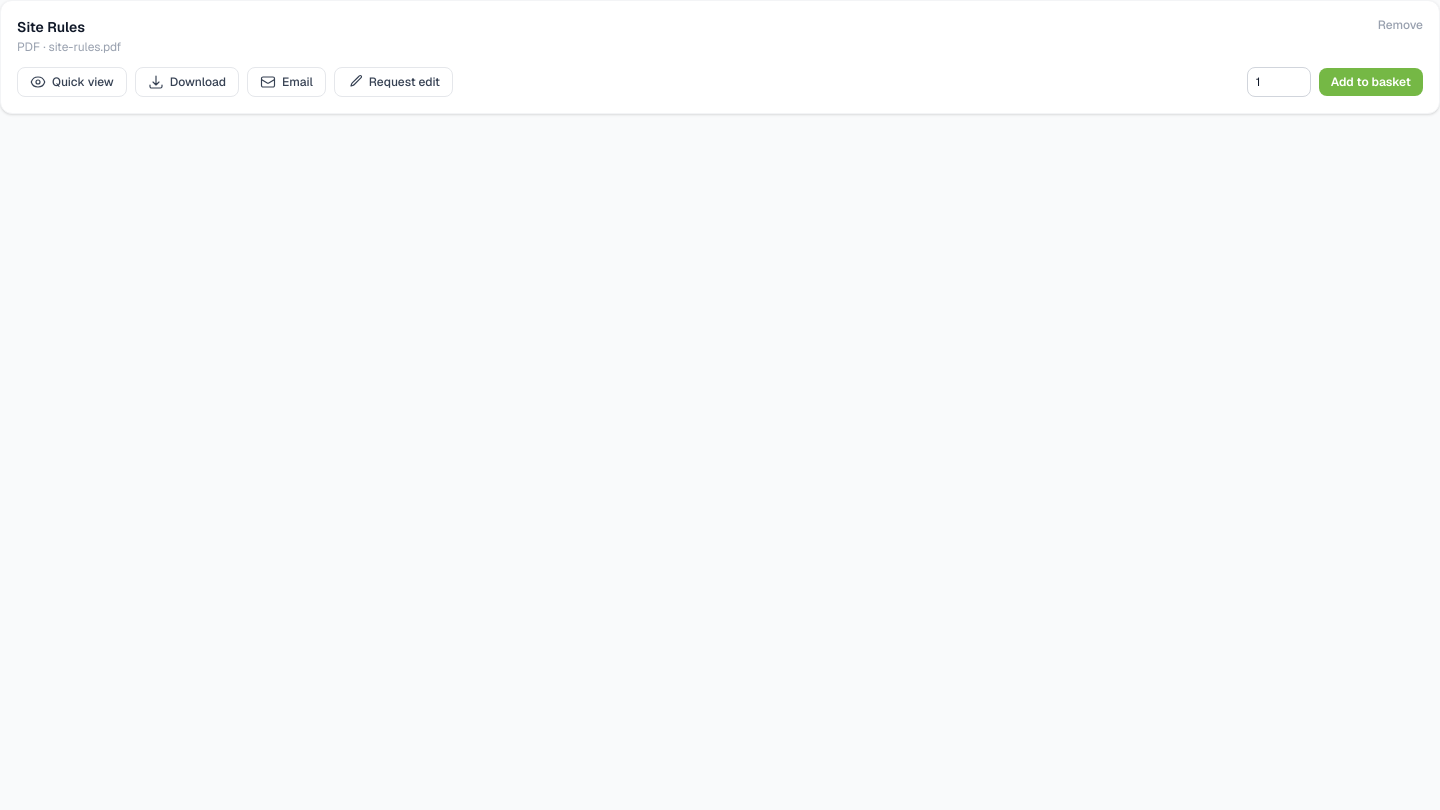
it: disclaimer wording › reads 'exactly as they appear', never 'as supplied'
Click the button "Add to basket" at (1371, 82), box [1319,68,1423,96]
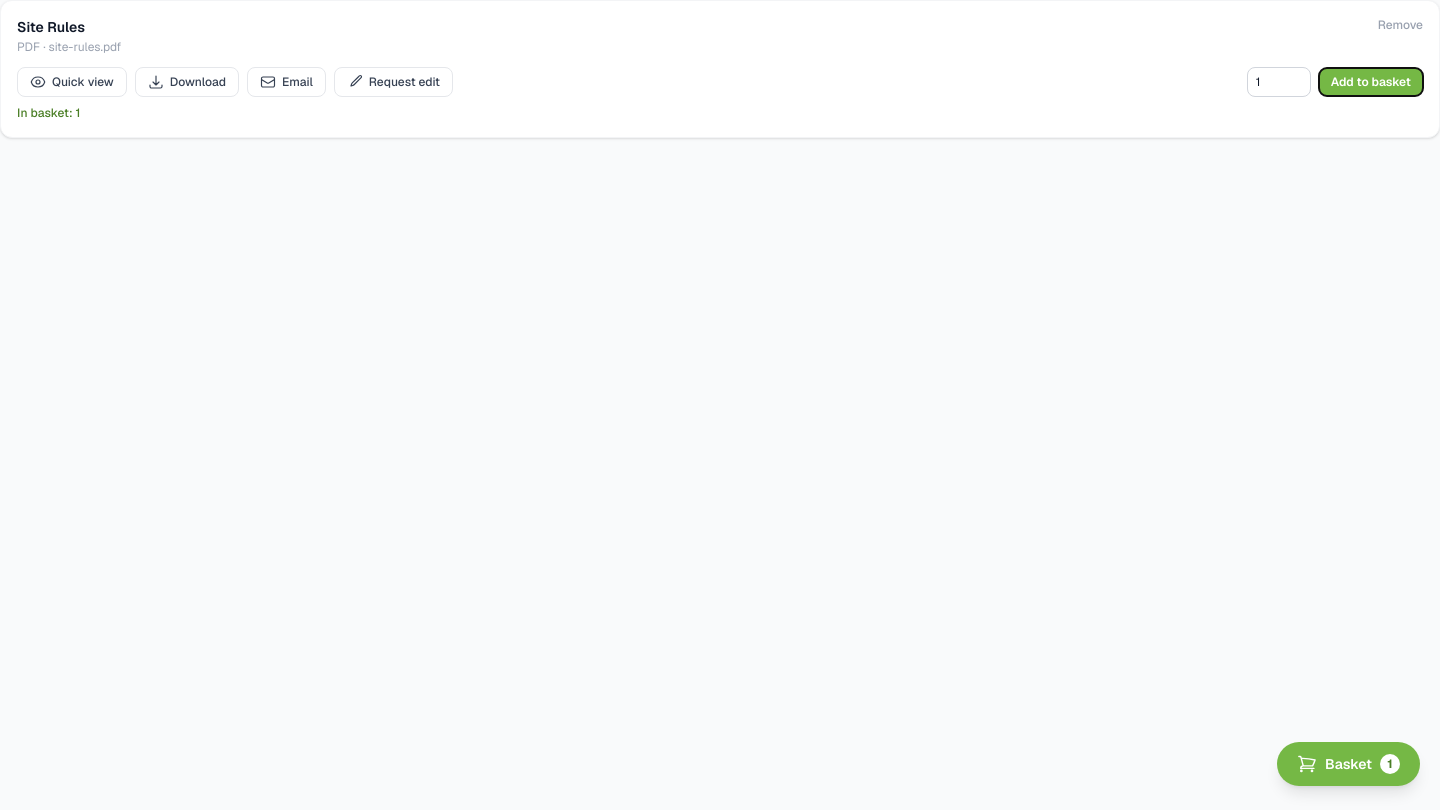
Click the button with aria-label "print basket, 1 document" at (1348, 764), box [1277,742,1420,786]
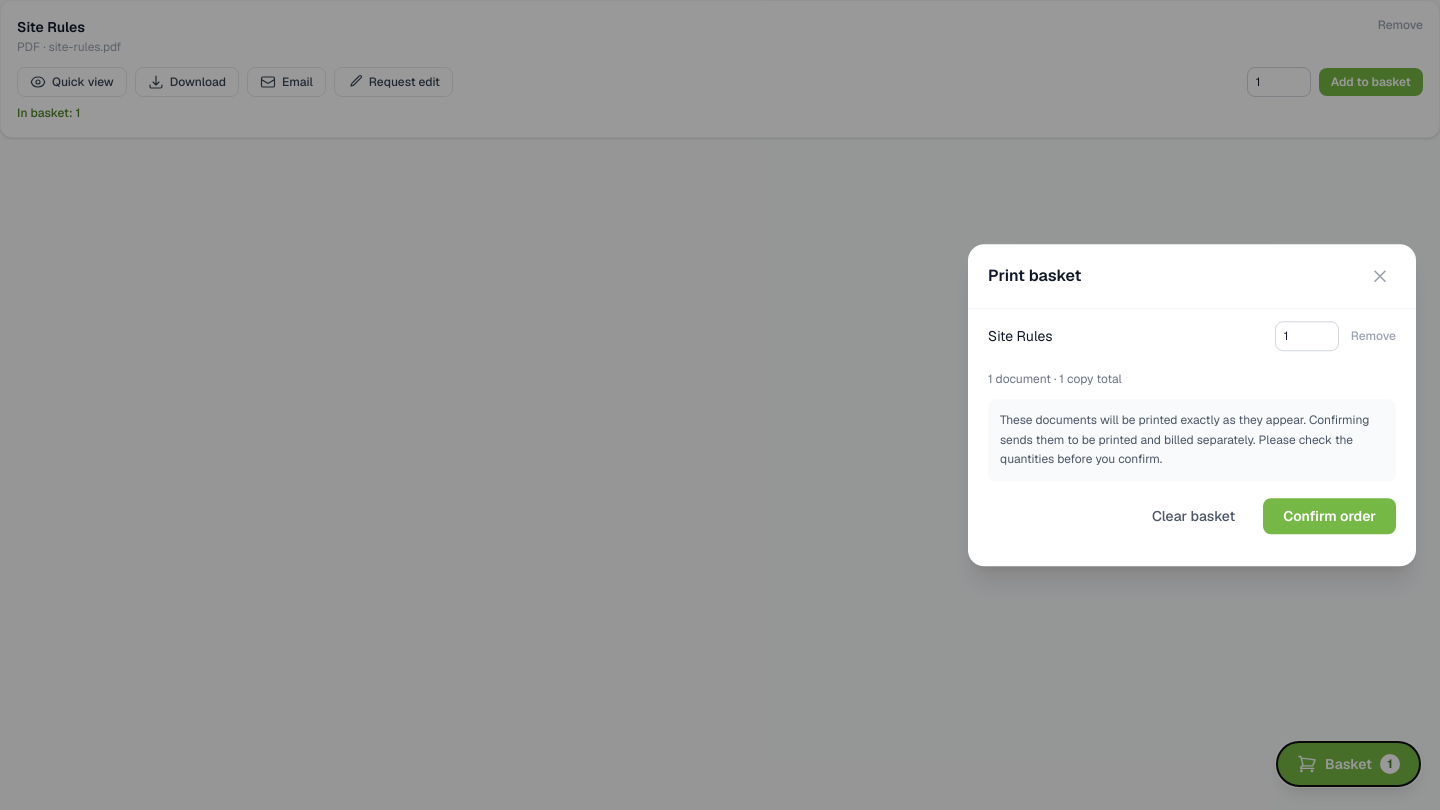
Expected: the text "will be printed exactly" does not show "as supplied", [988,399,1396,482]
Now the text "will be printed exactly" shows "printed exactly as they appear", box [1000,412,1369,467]
